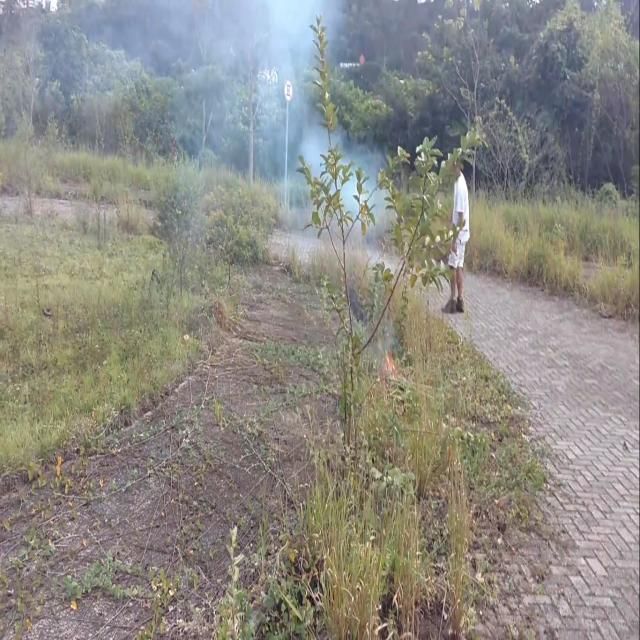Fire: (380, 345, 402, 378)
